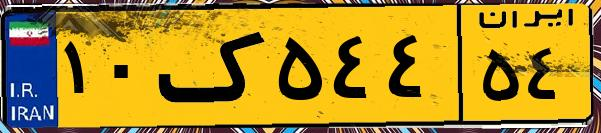0: (110, 28, 158, 98)
1: (57, 26, 110, 100)
4: (385, 28, 445, 110), (330, 28, 385, 110), (525, 38, 570, 115)
5: (270, 28, 330, 110), (475, 38, 525, 113)
ک: (158, 12, 270, 120)
